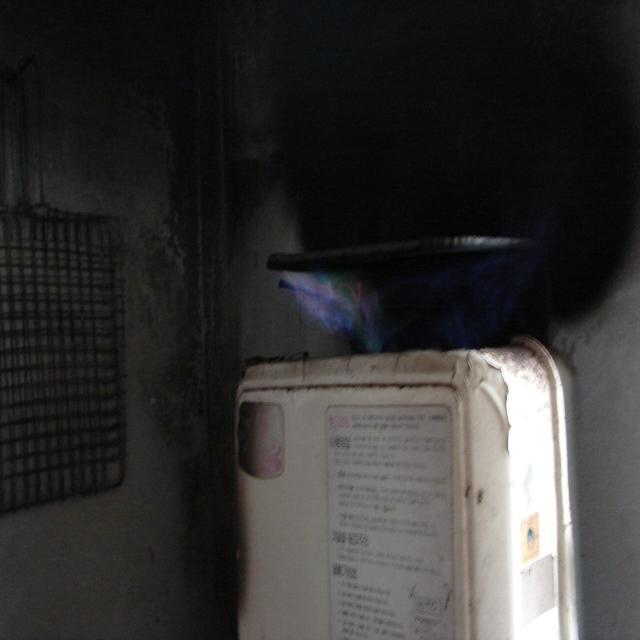Boiler: (180, 326, 608, 640)
